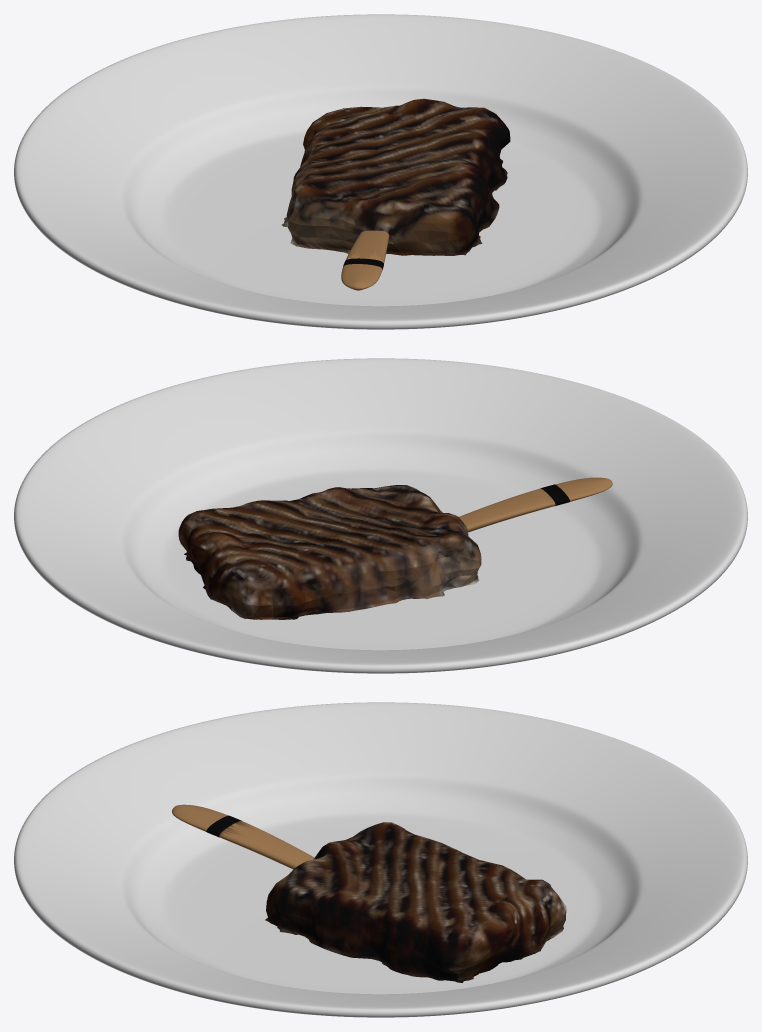
The model's file is Naughty Nutella.glb.
3 views of the same model, one above another, from view 1: azimuth 30°, elevation 25°; view 2: azimuth 150°, elevation 25°; view 3: azimuth 270°, elevation 25° (orthographic).
Parts seen in each view (by area): view 1: plate, Mesh_0, Box02, Box004; view 2: plate, Mesh_0, Box02, Box004; view 3: plate, Mesh_0, Box02, Box004.
Part boxes in pixels (x1=…): plate: x1=14, y1=14, x2=747, y2=329; Mesh_0: x1=281, y1=98, x2=510, y2=255; Box02: x1=346, y1=230, x2=389, y2=263; Box004: x1=341, y1=264, x2=382, y2=290; plate: x1=14, y1=358, x2=747, y2=673; Mesh_0: x1=178, y1=485, x2=481, y2=619; Box02: x1=459, y1=488, x2=555, y2=532; Box004: x1=555, y1=477, x2=612, y2=501; plate: x1=14, y1=702, x2=747, y2=1017; Mesh_0: x1=265, y1=822, x2=566, y2=982; Box02: x1=219, y1=821, x2=314, y2=869; Box004: x1=172, y1=804, x2=228, y2=831.
Bounding box in the file's own units: 0.2291 × 0.0217 × 0.2291.
Materials: 4 (2 with a texture image).
